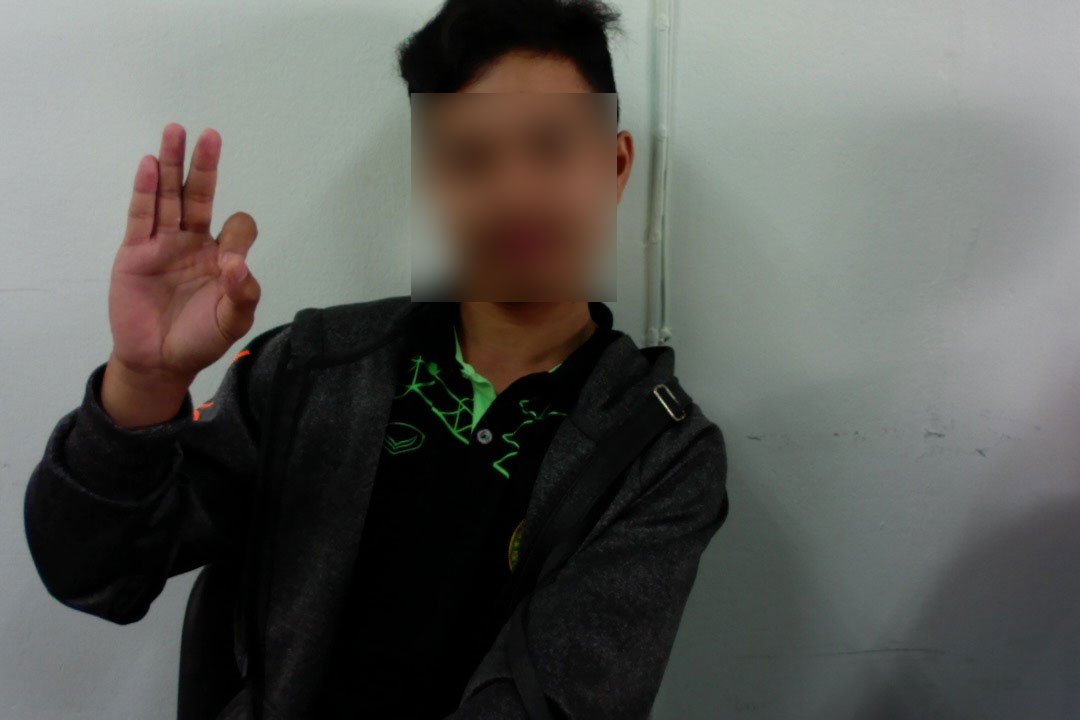for: (97, 115, 268, 383)
